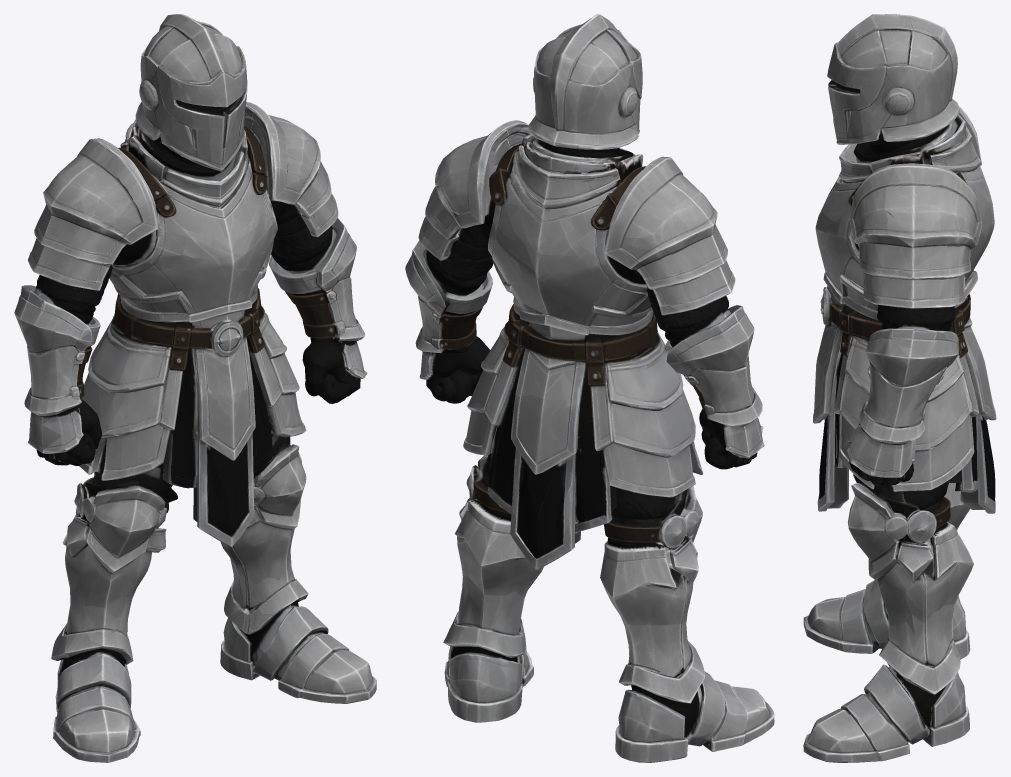
Rendered from Meshy_AI_Steel_Knight_30k_1104025602_texture.glb.
3 renders of one model, left to right at view 1: azimuth 30°, elevation 25°; view 2: azimuth 150°, elevation 25°; view 3: azimuth 270°, elevation 25°, orthographic. The views are drawn at different scales.
Visible parts, largest first — view 1: output_unwrapped; view 2: output_unwrapped; view 3: output_unwrapped.
Part boxes in pixels (x1,y1,x2,y2): output_unwrapped: (14, 14, 376, 762); output_unwrapped: (405, 14, 774, 762); output_unwrapped: (803, 14, 996, 762).
Bounding box in the file's own units: 0.9694 × 1.9 × 0.4922.
1 material, 1 textured.
